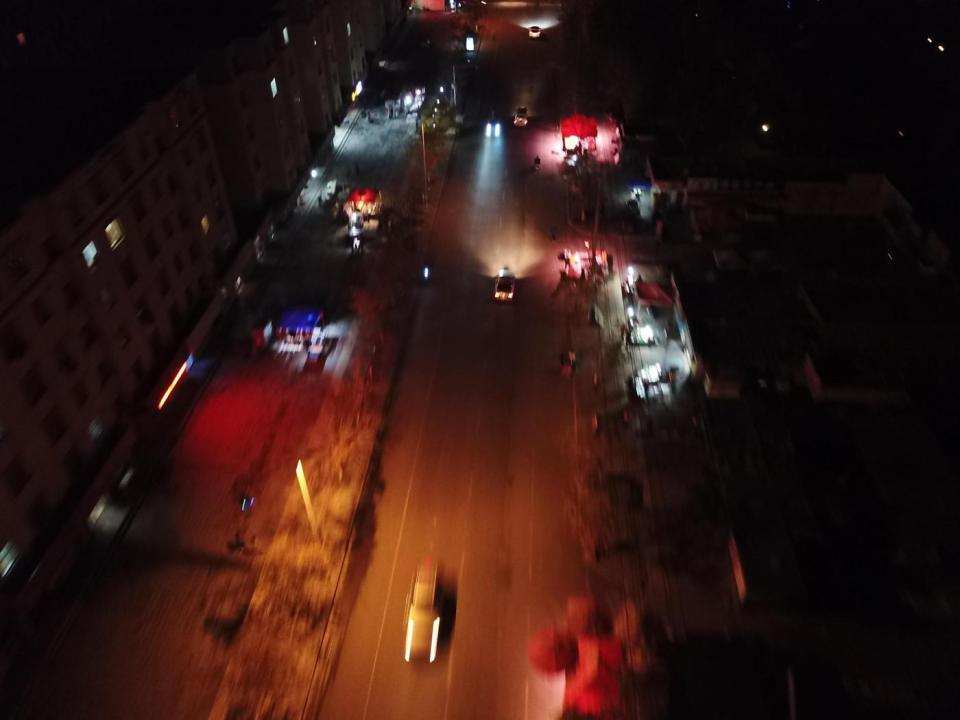car: (405, 582, 438, 662), (494, 269, 515, 301), (485, 108, 503, 136), (514, 106, 526, 126), (628, 199, 640, 219), (528, 26, 542, 39), (419, 36, 431, 49)
